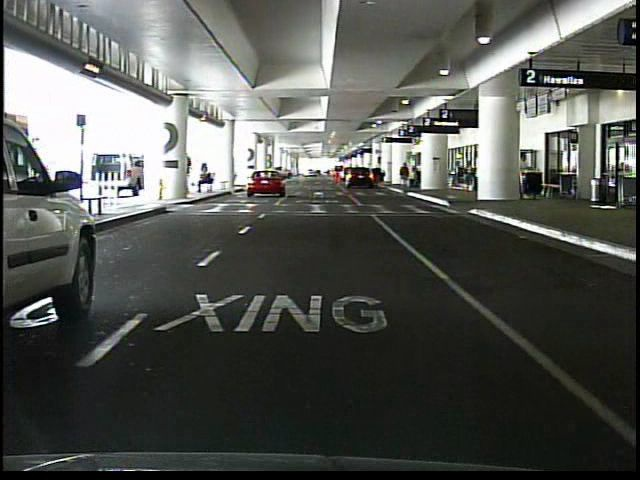person: (515, 149, 532, 193), (199, 166, 217, 195), (400, 162, 413, 192), (453, 162, 465, 189)
